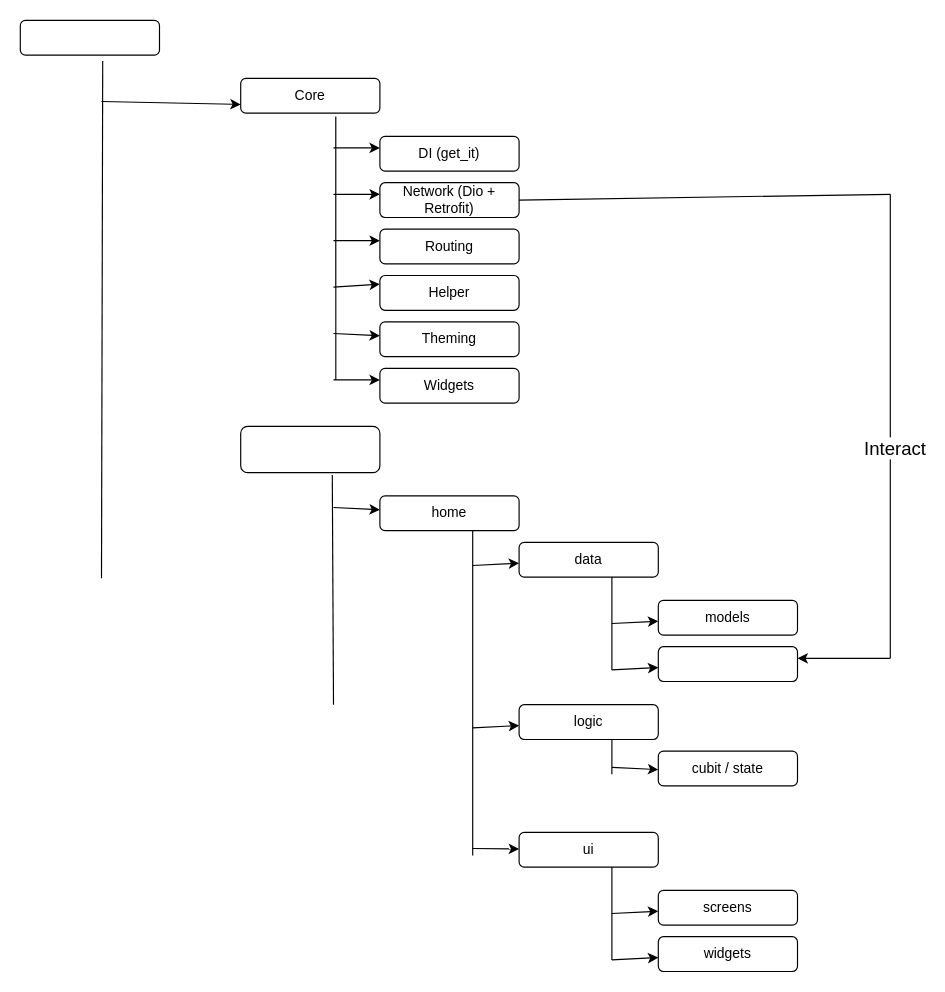
Some shapes in this 945 by 992 pixel diagram are drawn without their labels. Each missing label, with the box of its shape:
Features: (240, 425, 380, 473)
lib: (19, 19, 160, 55)
repository: (657, 646, 798, 682)
